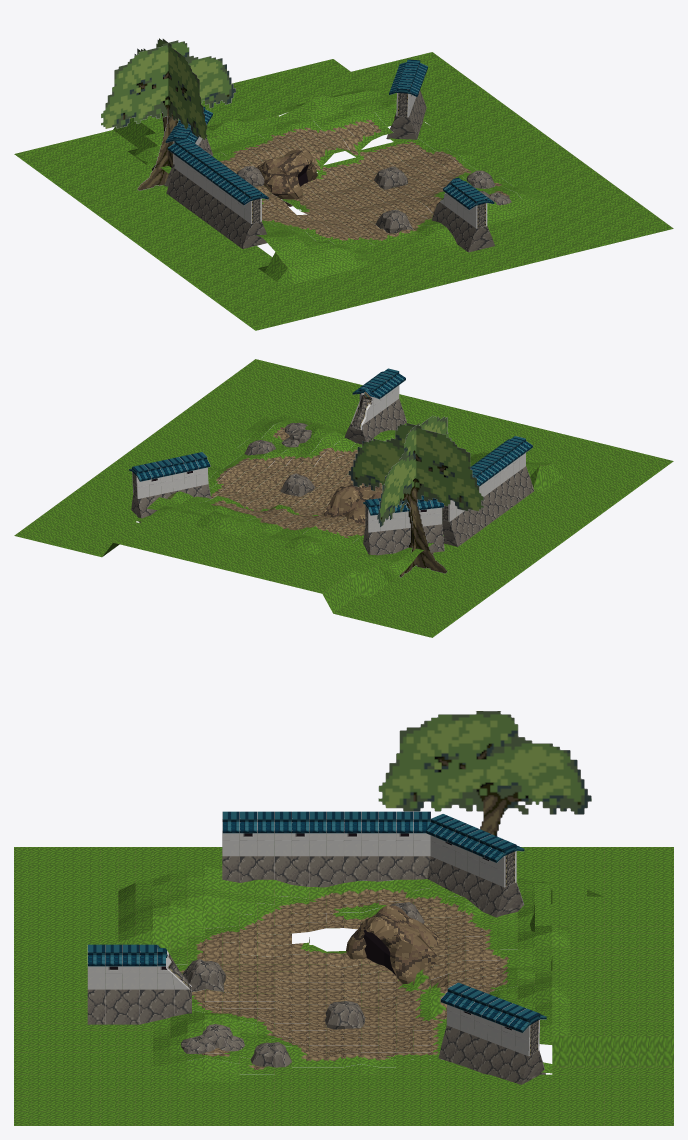
Rendered from ForsetLevelV2.fbx.
3 renders of one model, top to bottom at view 1: azimuth 30°, elevation 25°; view 2: azimuth 150°, elevation 25°; view 3: azimuth 270°, elevation 25°, orthographic. The views are drawn at different scales.
Visible parts, largest first — view 1: ForestV2; view 2: ForestV2; view 3: ForestV2.
Part boxes in pixels (x1,y1,x2,y2): ForestV2: (14,38,673,330); ForestV2: (14,359,673,637); ForestV2: (14,711,673,1125).
Bounding box in the file's own units: 1900 × 680 × 1900.
